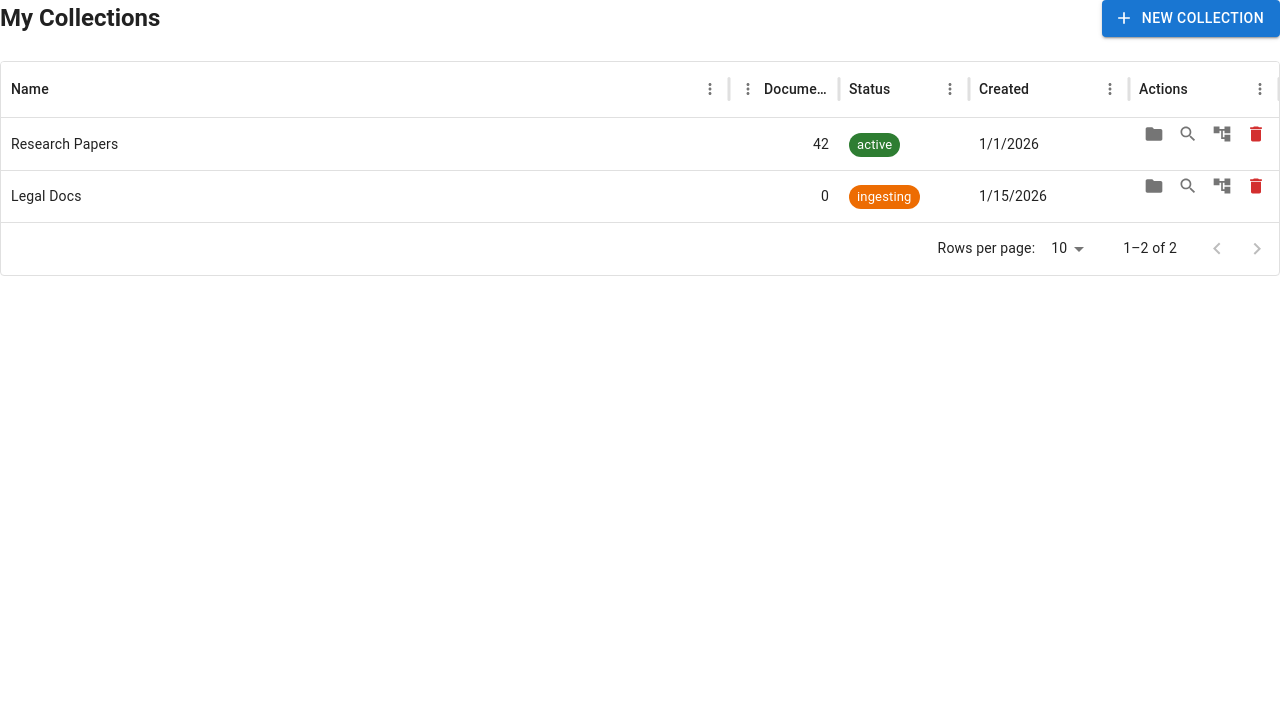
Test: Dashboard › opens create dialog when New Collection button is clicked
This screenshot has width=1280, height=720.
Step 1. Click the button "New Collection" → point(1191, 18), box [1102,0,1279,36]
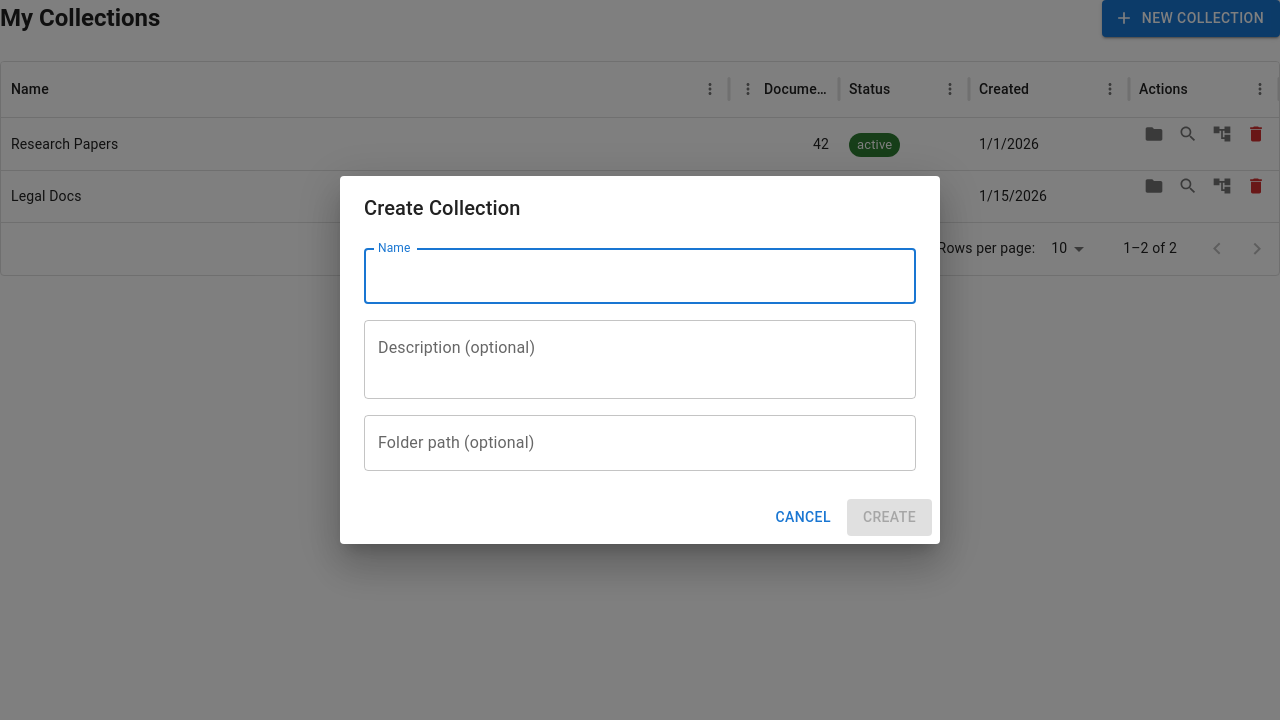
Result: the heading "Create Collection" is shown at [364,196,521,220]
